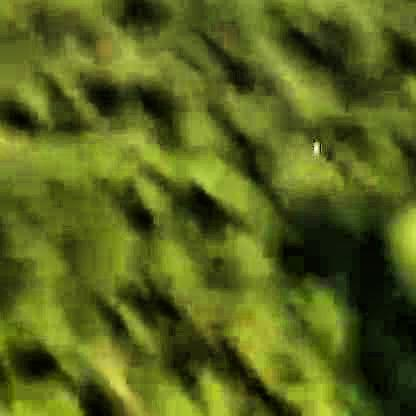golfball: (310, 136, 317, 149)
